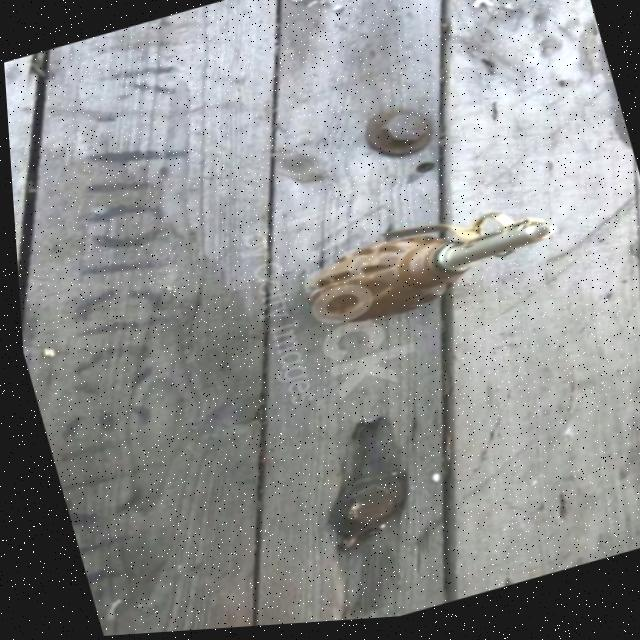grenade: (278, 191, 557, 345)
